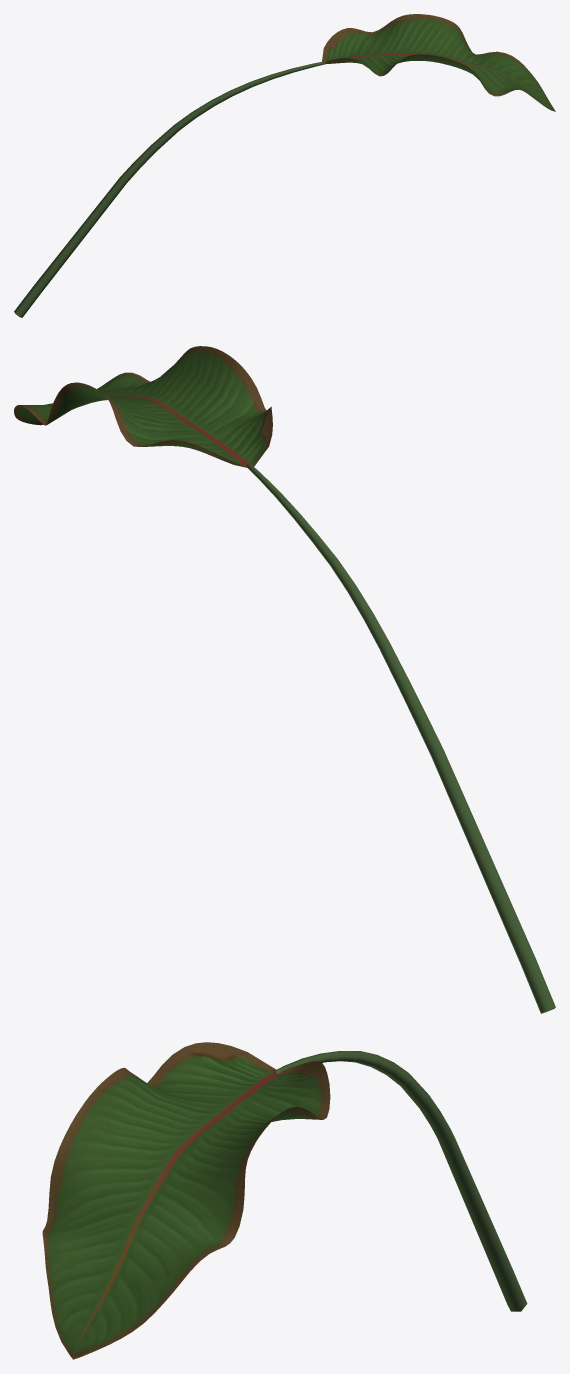
File: strelitzialeaf.fbx
The picture shows the model from 3 angles, top to bottom: view 1: azimuth 30°, elevation 25°; view 2: azimuth 150°, elevation 25°; view 3: azimuth 270°, elevation 25°; orthographic projection. The views are drawn at different scales.
Visible parts, largest first — view 1: Strelitzia_r__A001.001; view 2: Strelitzia_r__A001.001; view 3: Strelitzia_r__A001.001.
Part boxes in pixels (x1=…): Strelitzia_r__A001.001: x1=14, y1=14, x2=555, y2=317; Strelitzia_r__A001.001: x1=14, y1=346, x2=555, y2=1013; Strelitzia_r__A001.001: x1=42, y1=1042, x2=527, y2=1359.
Size of the model in its own units: 907 by 531 by 442.
